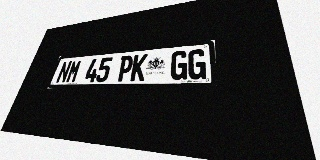4: (83, 58, 101, 83)
5: (95, 57, 113, 82)
G: (188, 49, 206, 80), (170, 50, 188, 80)
K: (130, 54, 148, 81)
M: (65, 60, 82, 83)
N: (55, 61, 72, 83)
P: (116, 55, 134, 82)
